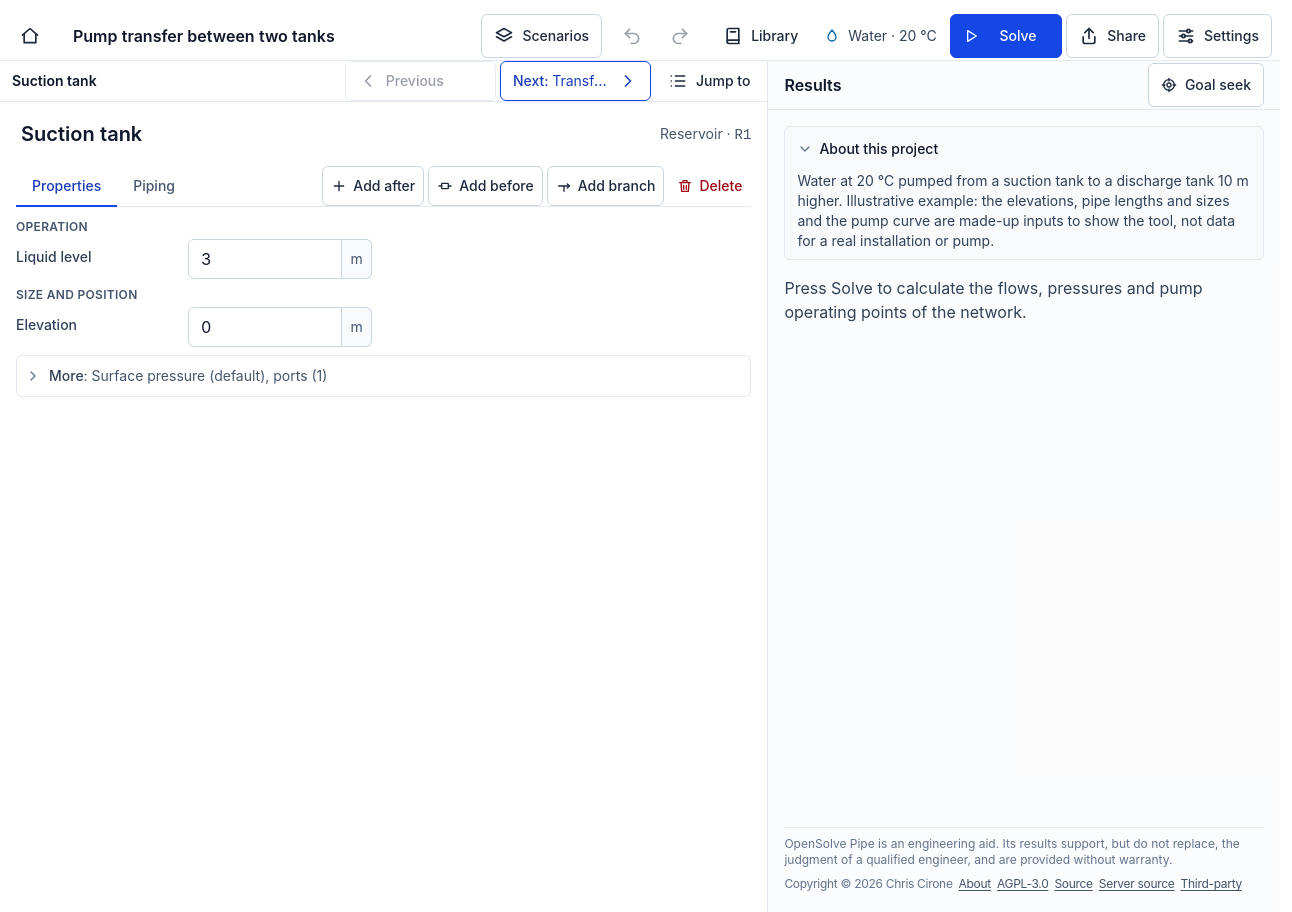
results state › stays current after a change of display units
Click the button "Solve".
click(1006, 36)  # box [950,14,1062,58]
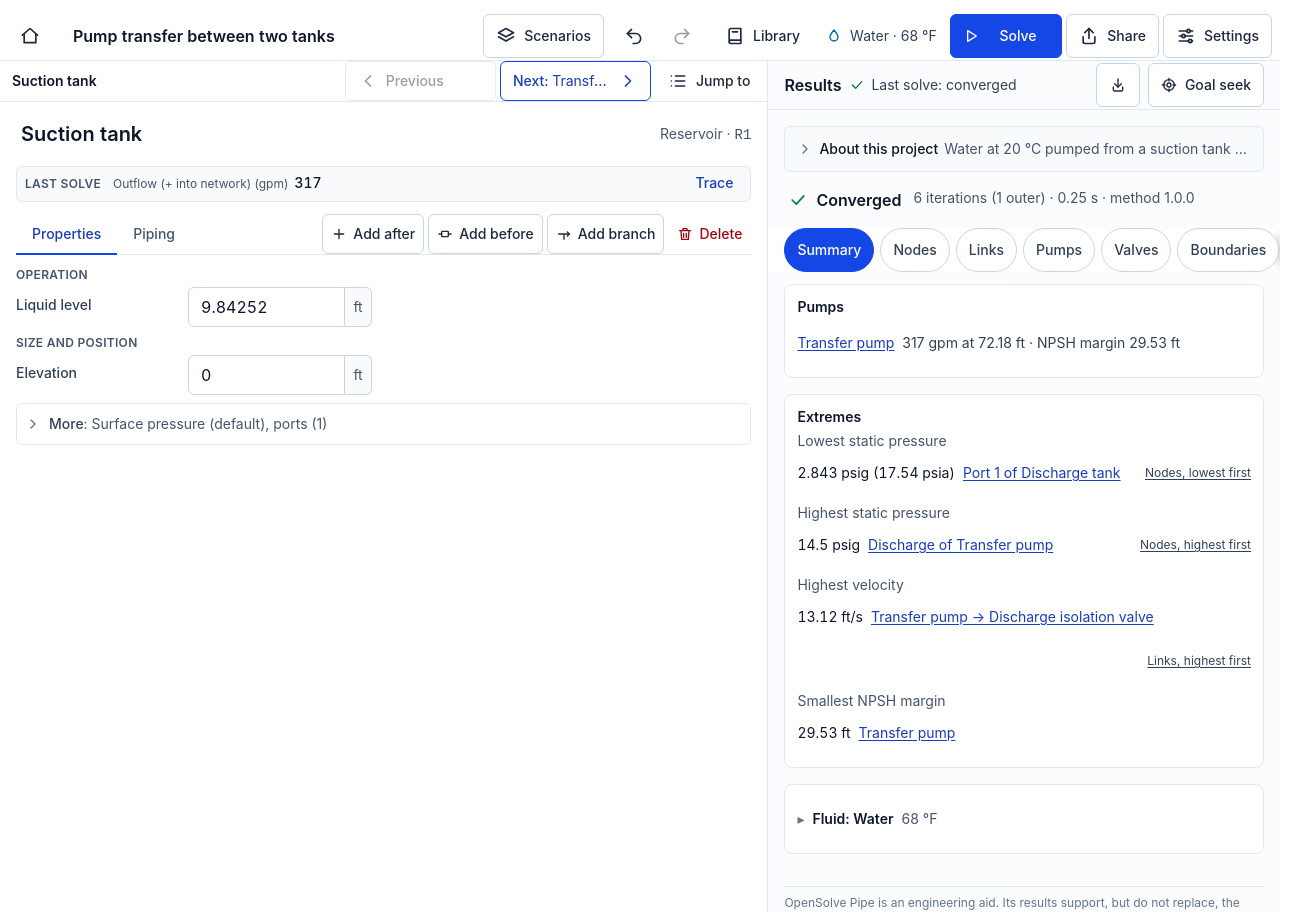
Check: the message reads "Last solve: converged", box [871,76,1017,93]
